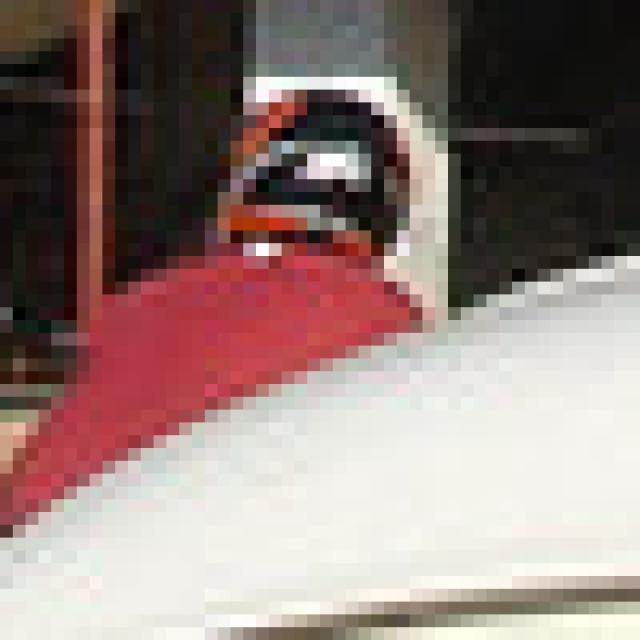no_fire: (20, 18, 591, 570)
